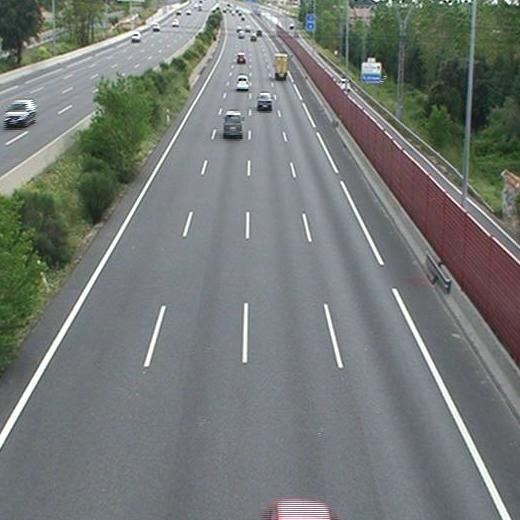car: (224, 112, 241, 135), (257, 92, 271, 108), (236, 76, 250, 89), (237, 53, 245, 63)
small-truck: (275, 54, 288, 79)
